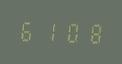eight: (81, 20, 101, 45)
one: (39, 19, 59, 43)
six: (18, 18, 38, 43)
zero: (60, 19, 80, 44)
